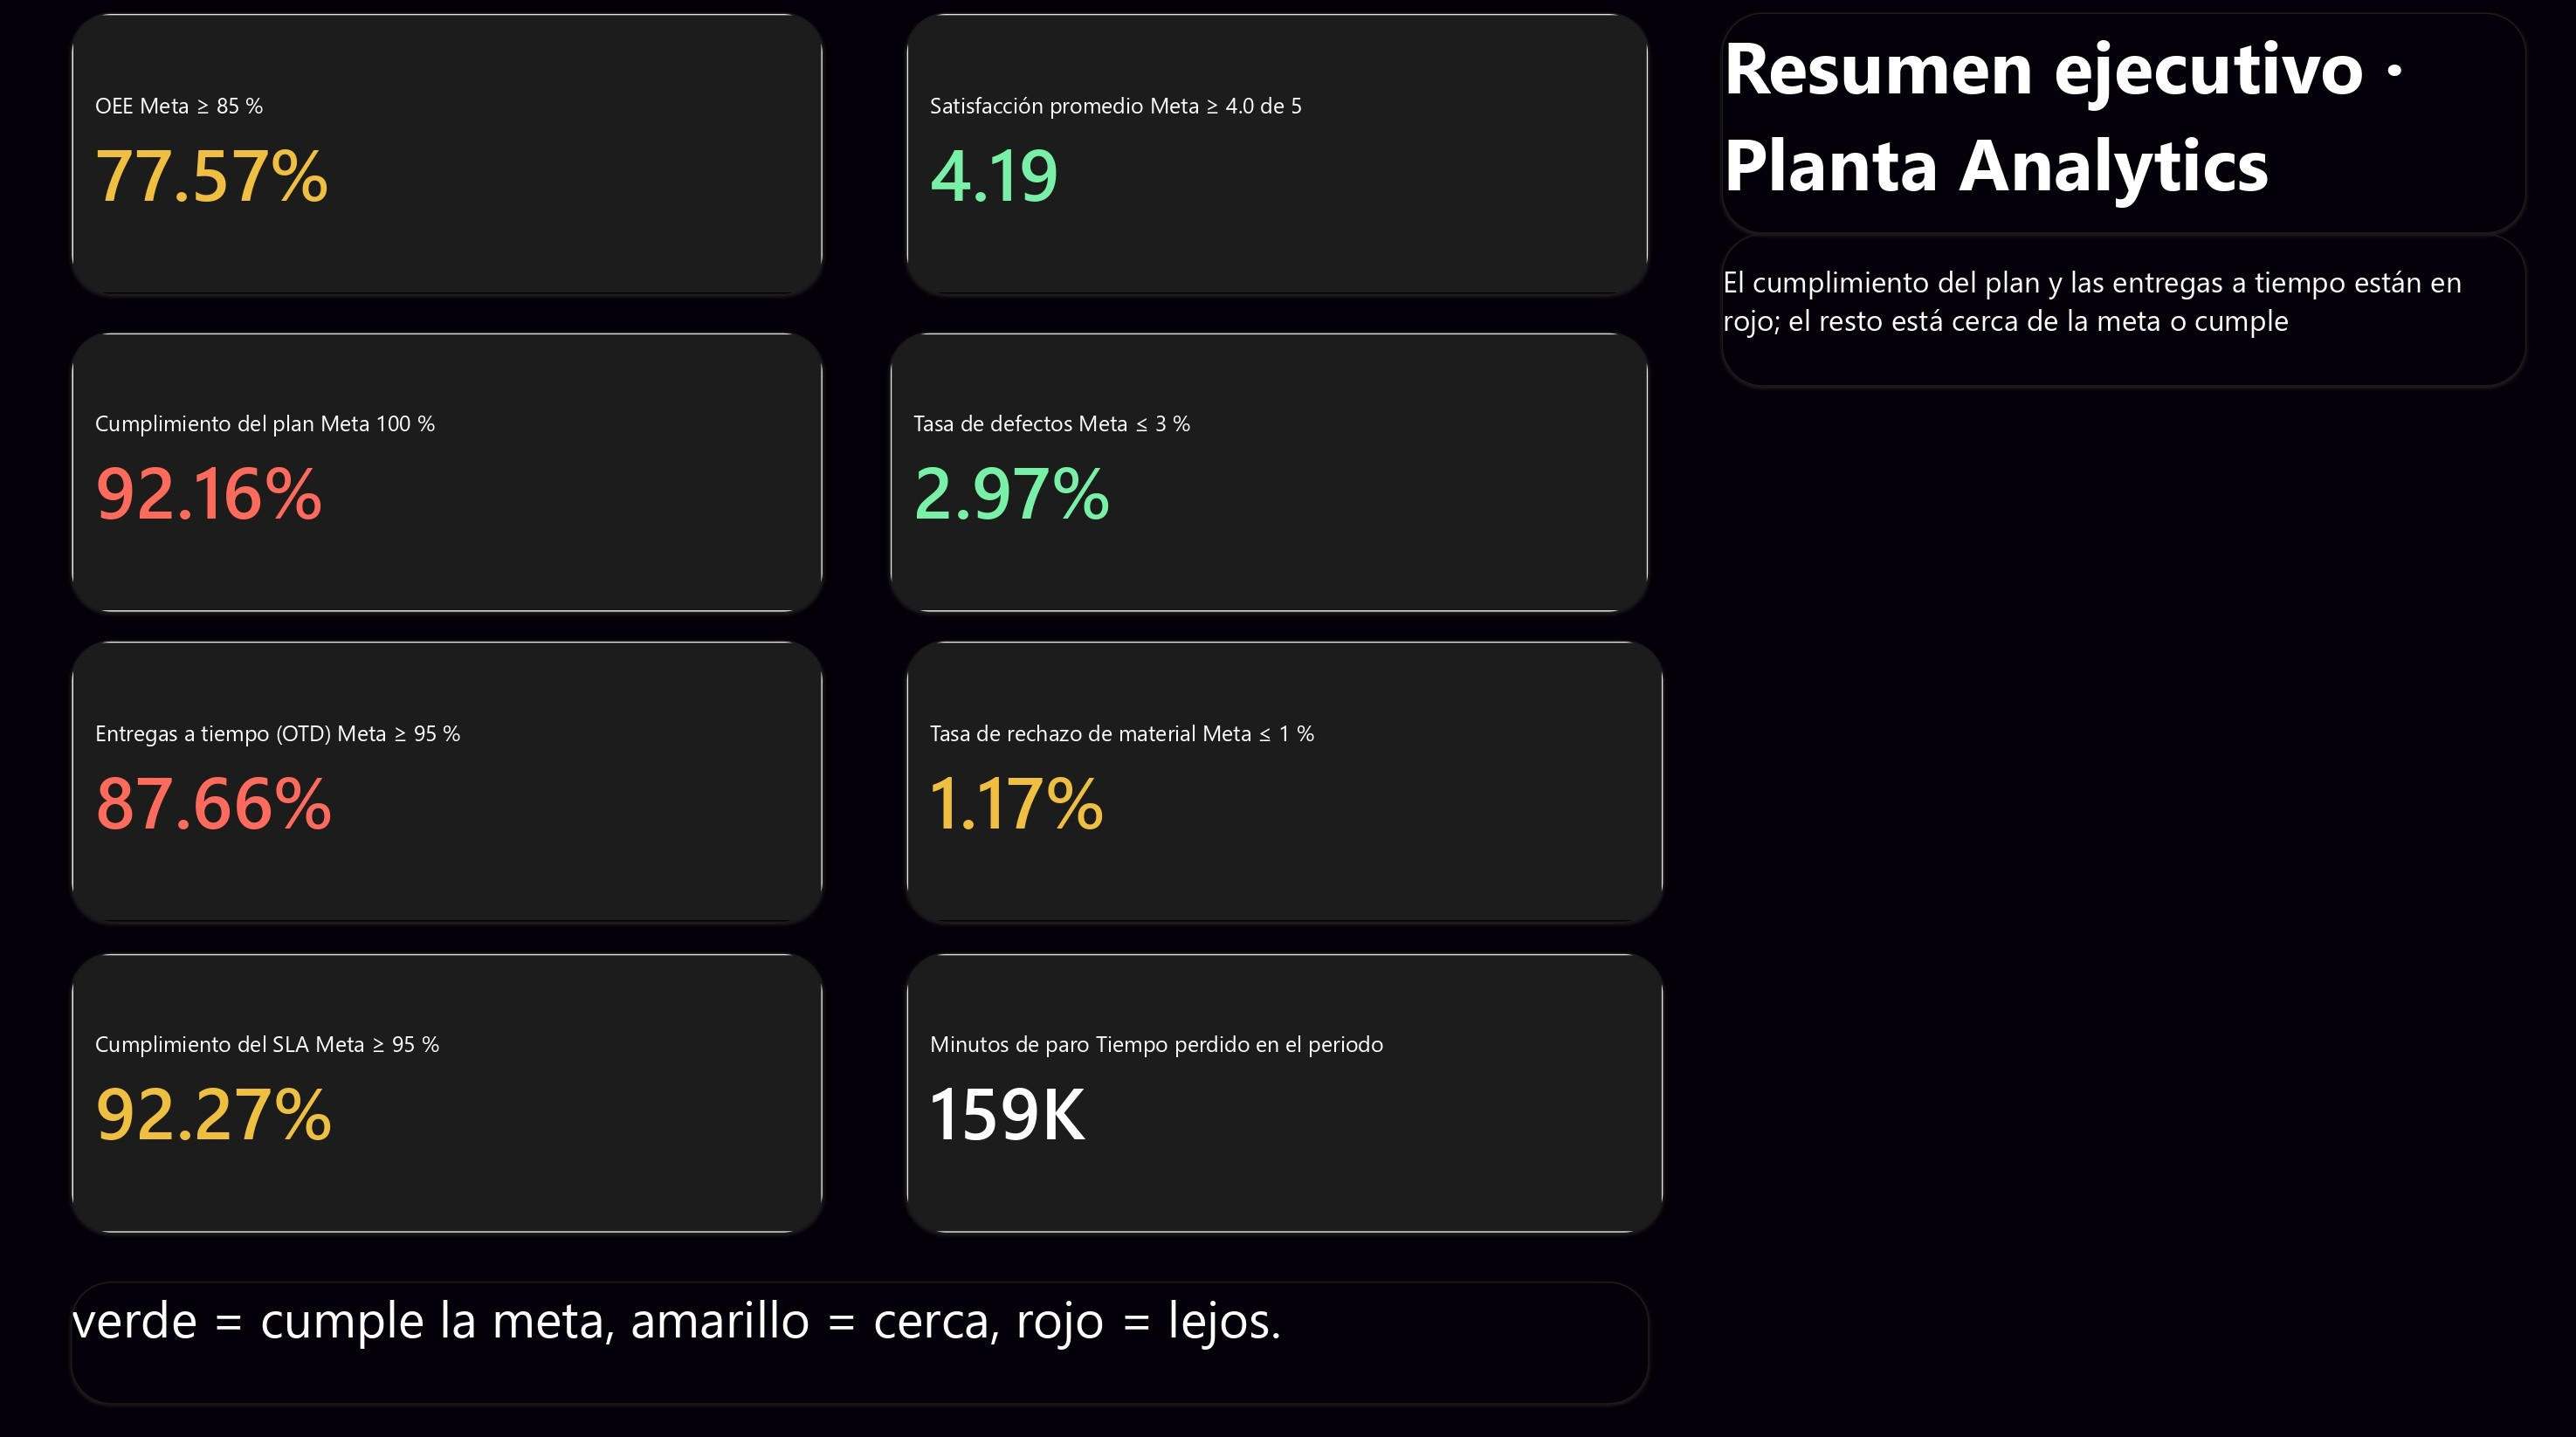

What the dashboard file says about the page in this screenshot:
{"tool":"powerbi","page":{"name":"KPIs","canvas":[1920,1080],"ordinal":0},"visuals":[{"type":"cardVisual","fields":{"Data":["planta_analytics fact_produccion.cumplimiento de la meta"]},"box":[70,256.7,551.7,206.7],"z":0},{"type":"cardVisual","title":"OEE","fields":{"Data":["planta_analytics fact_produccion.OEE"]},"box":[70,23.3,551.7,206.7],"z":1000},{"type":"cardVisual","fields":{"Data":["planta_analytics fact_entregas_proveedor.OTD"]},"box":[70,483.3,551.7,206.7],"z":2000},{"type":"cardVisual","fields":{"Data":["planta_analytics fact_tickets_ti.cumplimiento de SLA"]},"box":[70,711.7,551.7,206.7],"z":3000},{"type":"cardVisual","fields":{"Data":["planta_analytics fact_tickets_ti.satisfaccion promedio"]},"box":[681.7,23.3,545,206.7],"z":4000},{"type":"cardVisual","fields":{"Data":["planta_analytics fact_defectos.Tasa de defectos"]},"box":[670,256.7,556.7,206.7],"z":5000},{"type":"cardVisual","fields":{"Data":["planta_analytics fact_entregas_proveedor.Tasa de rechazo"]},"box":[681.7,483.3,556.7,206.7],"z":6000},{"type":"cardVisual","fields":{"Data":["planta_analytics fact_paros.minutos de paro"]},"box":[681.7,711.7,556.7,206.7],"z":7000},{"type":"textbox","box":[1280,23.3,590,161.7],"z":8000},{"type":"textbox","box":[1280,185,590,111.7],"z":9000},{"type":"textbox","box":[70,953.3,1156.7,90],"z":10000}]}

Visuals, with their boxes in screenshot pixels (x1, y1, x2, y2), scaled from the page's 1920x1080 canvas onto the 2576x1437 screenshot:
cardVisual - planta_analytics fact_produccion.cumplimiento de la meta: left=94, top=341, right=834, bottom=616
"OEE" cardVisual: left=94, top=31, right=834, bottom=306
cardVisual - planta_analytics fact_entregas_proveedor.OTD: left=94, top=643, right=834, bottom=918
cardVisual - planta_analytics fact_tickets_ti.cumplimiento de SLA: left=94, top=947, right=834, bottom=1222
cardVisual - planta_analytics fact_tickets_ti.satisfaccion promedio: left=914, top=31, right=1646, bottom=306
cardVisual - planta_analytics fact_defectos.Tasa de defectos: left=899, top=341, right=1646, bottom=616
cardVisual - planta_analytics fact_entregas_proveedor.Tasa de rechazo: left=914, top=643, right=1662, bottom=918
cardVisual - planta_analytics fact_paros.minutos de paro: left=914, top=947, right=1662, bottom=1222
textbox: left=1718, top=31, right=2509, bottom=246
textbox: left=1718, top=246, right=2509, bottom=395
textbox: left=94, top=1269, right=1646, bottom=1388
